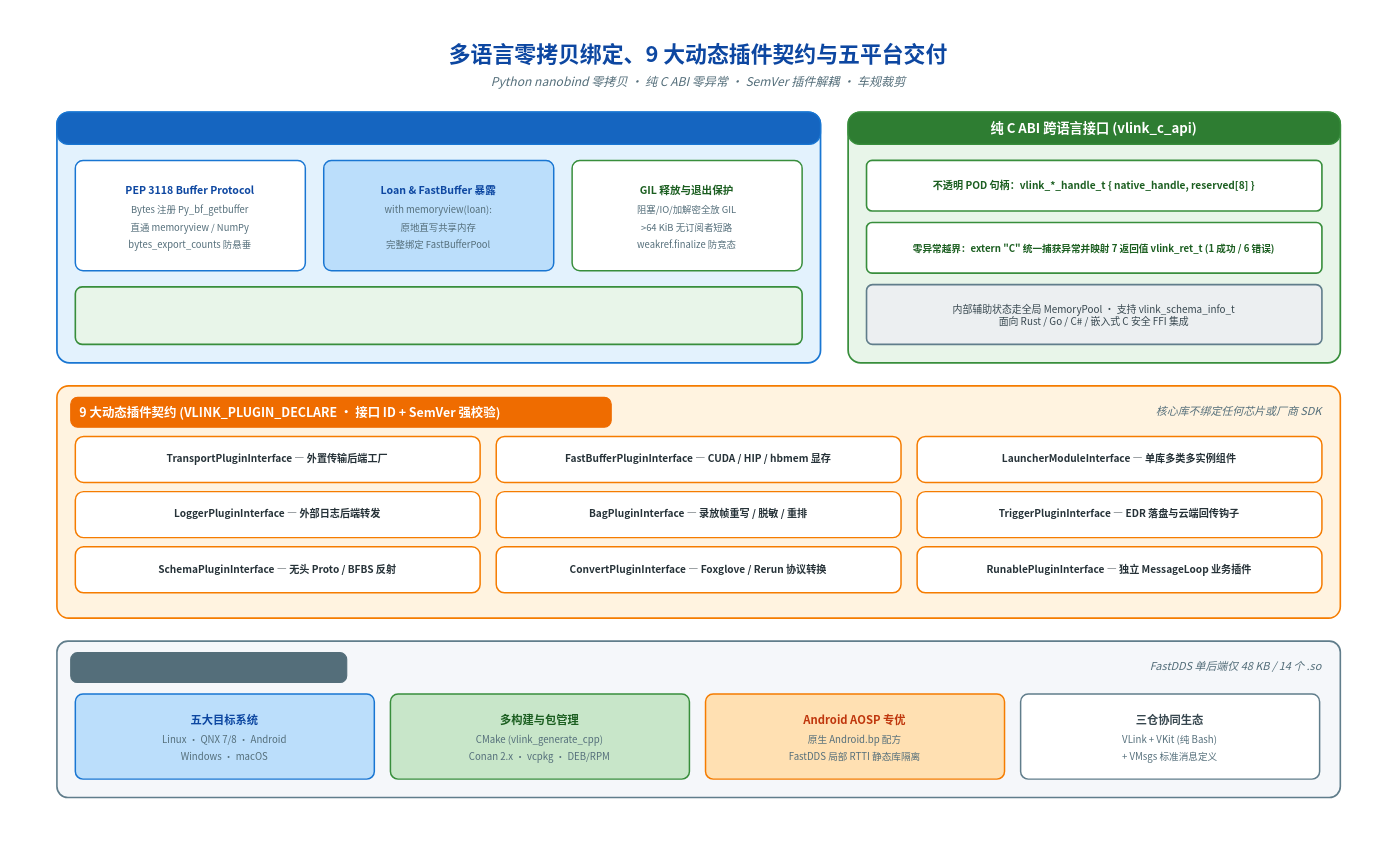
Image size: 1396x844. Some labels were removed from this diagram. Here are the shapes that lost their labels. From the top down, the centre of each, then its label:
At point (438, 127): "Python nanobind 零拷贝绑定 (_vlink_nanobind)".
At point (438, 315): "C++ 实时感知采集进程 ⇄ FastBuffer (140 B 显存句柄) ⇄ Python PyTorch / TensorRT VLA 进程".
At point (208, 667): "五平台支持与车规裁剪交付".
